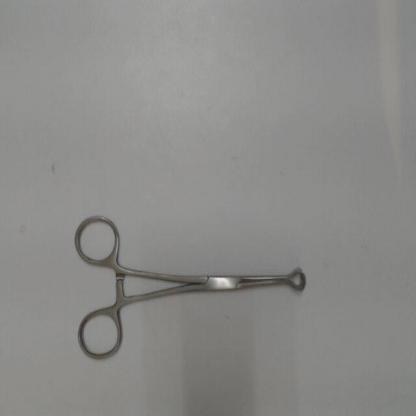Babcock Tissue Forceps: (68, 208, 309, 363)
